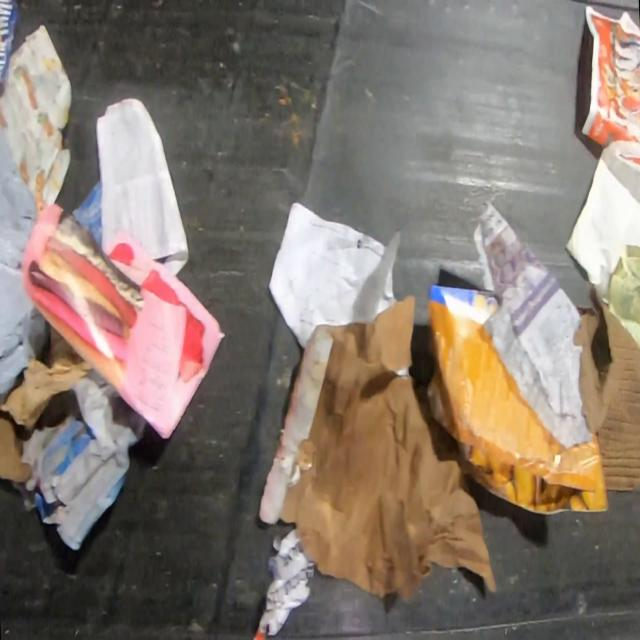cardboard: (427, 284, 608, 513), (572, 280, 640, 492), (0, 410, 34, 483)
soft_plastic: (0, 121, 48, 400)
